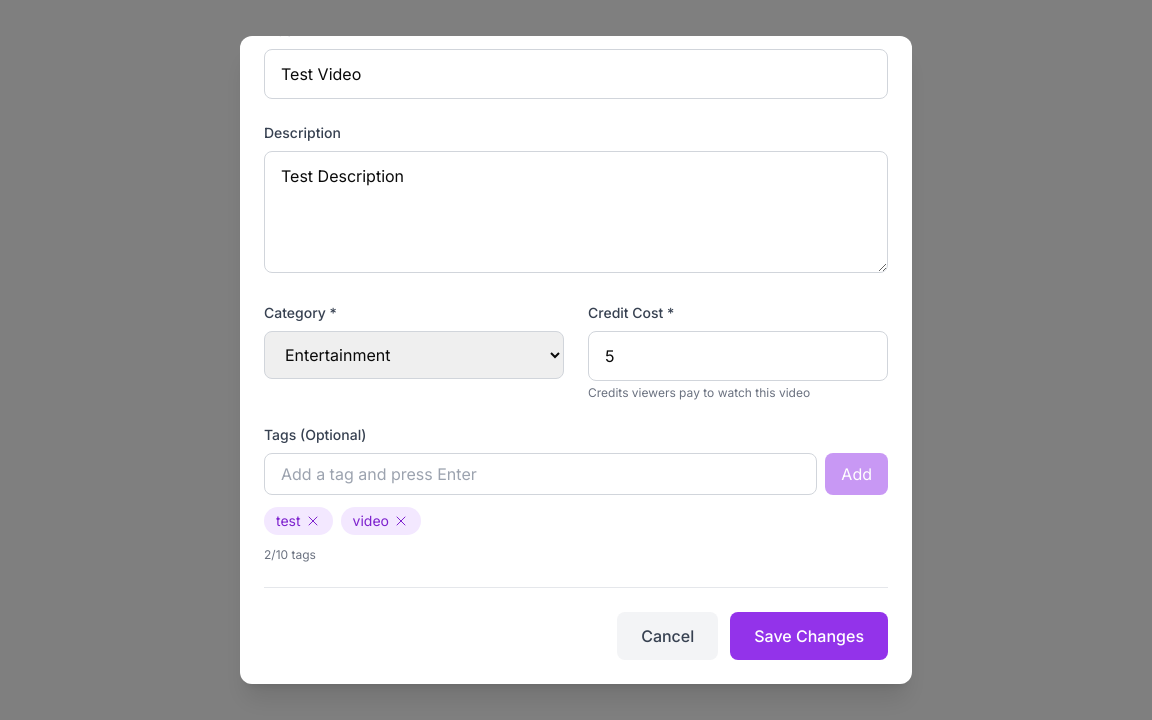
it: VideoEditModal › should handle server validation errors
(page scrolled)
Click the button "Save Changes".
click(809, 636)  # box [730,612,888,660]
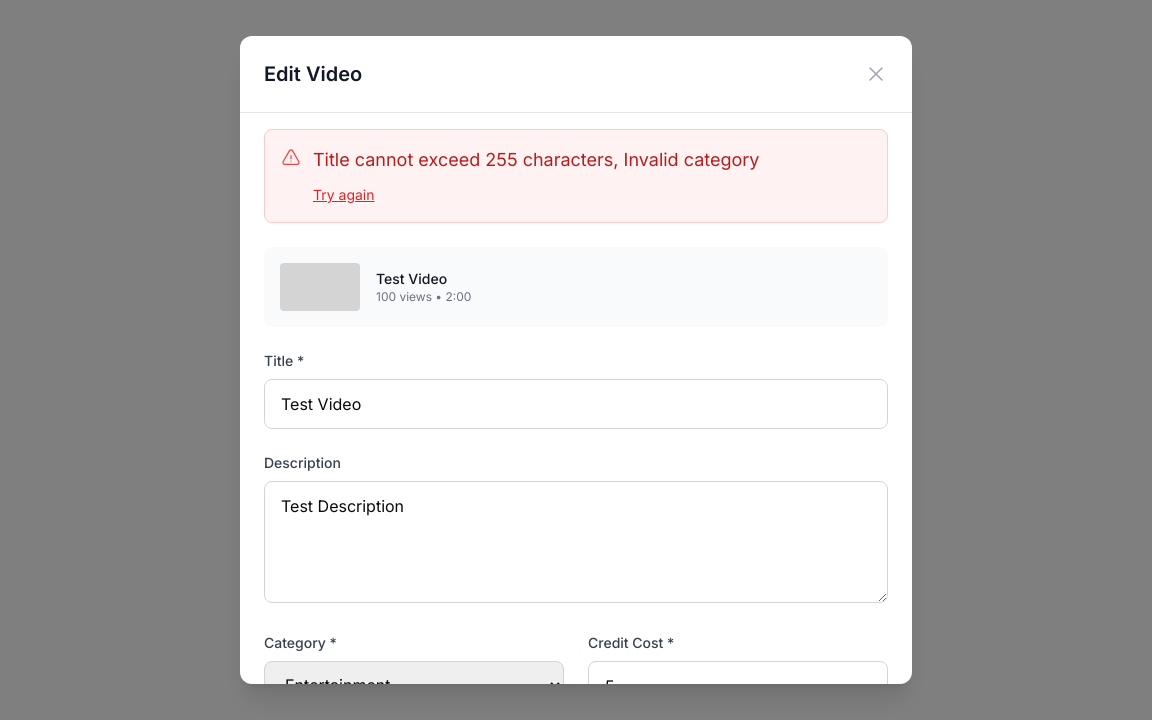
Expected: the text "Title cannot exceed 255 characters, Invalid category" is shown, [313,149,760,170]
